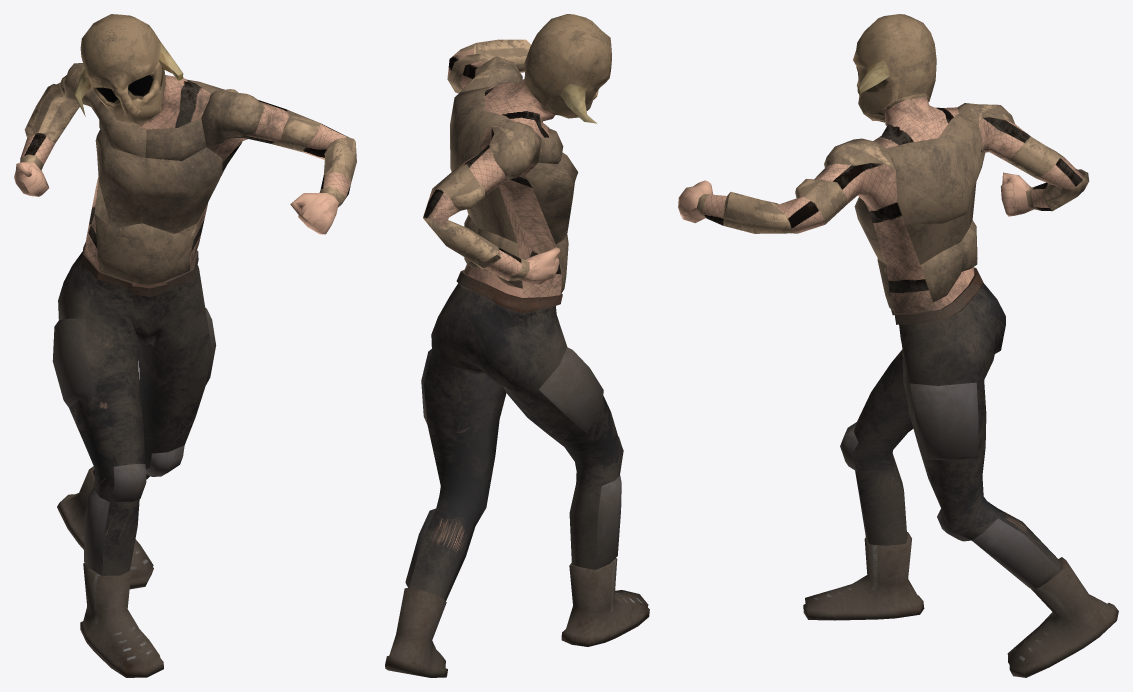
Rendered from Anim_ataque_d3_npc1.0036.obj.
The picture shows the model from 3 angles, left to right: view 1: azimuth 30°, elevation 25°; view 2: azimuth 150°, elevation 25°; view 3: azimuth 270°, elevation 25°; orthographic projection. The views are drawn at different scales.
Visible parts, largest first — view 1: NPC2; view 2: NPC2; view 3: NPC2.
Boxes of the visible parts, box(x1,y1,x2,y2) form: NPC2: box(14, 14, 356, 677); NPC2: box(385, 14, 649, 677); NPC2: box(678, 14, 1118, 677).
Bounding box in the file's own units: 3.32 × 9.08 × 5.87.
